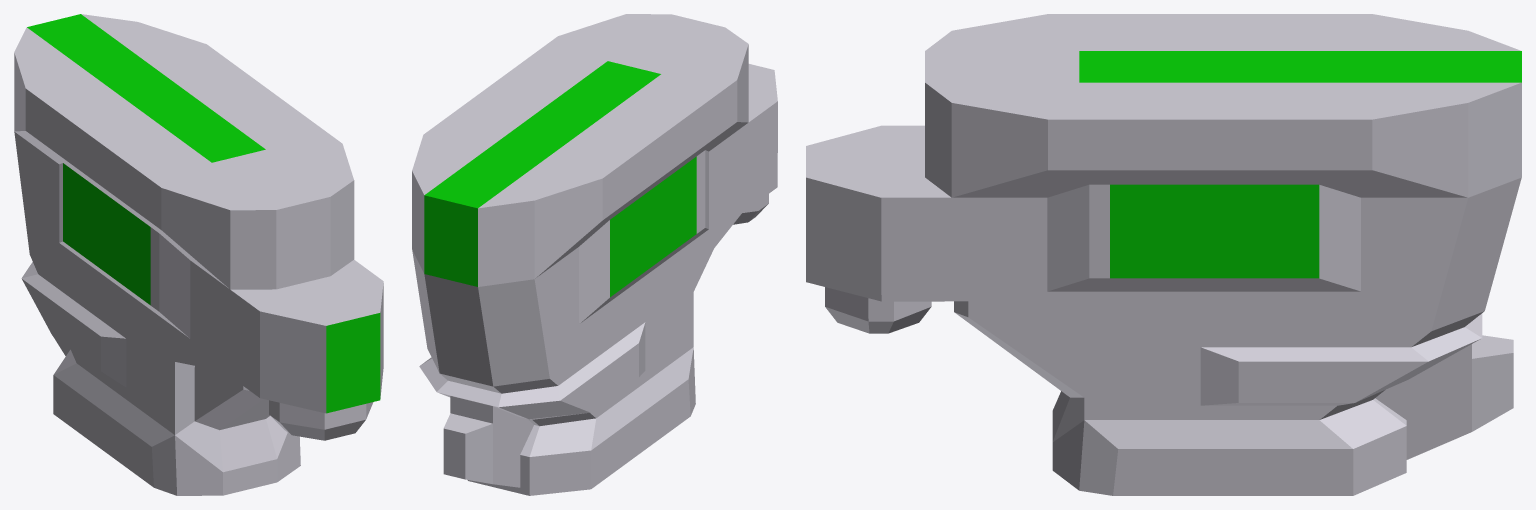
Rendered from Beard Block.fbx.
The picture shows the model from 3 angles, left to right: view 1: azimuth 30°, elevation 25°; view 2: azimuth 150°, elevation 25°; view 3: azimuth 270°, elevation 25°; orthographic projection. The views are drawn at different scales.
Visible parts, largest first — view 1: Beard Block; view 2: Beard Block; view 3: Beard Block.
Part boxes in pixels (box(x1,y1,x2,y2)): Beard Block: box(14, 14, 383, 495); Beard Block: box(412, 14, 777, 495); Beard Block: box(806, 14, 1521, 495).
Size of the model in its own units: 2.91 by 4.98 by 8.33.
